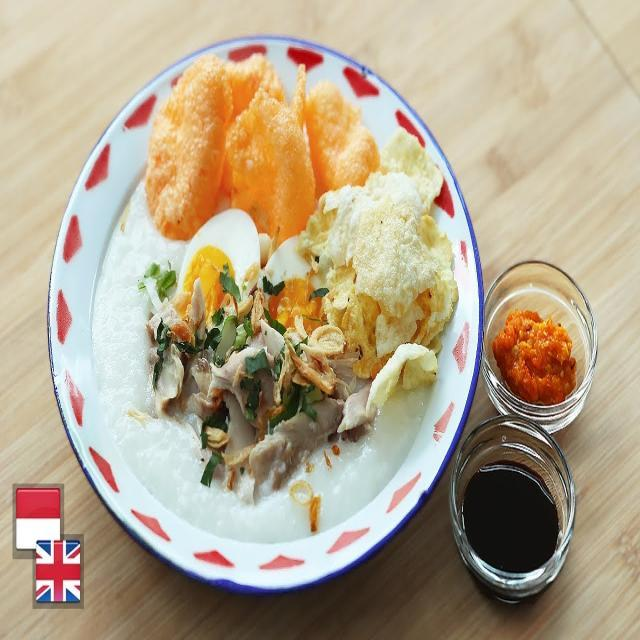bubur ayam: (90, 51, 463, 542)
mangkuk: (448, 415, 576, 605), (480, 260, 598, 434)
sambal: (491, 303, 578, 407)
telur rebus: (175, 204, 263, 314), (258, 227, 324, 329)
